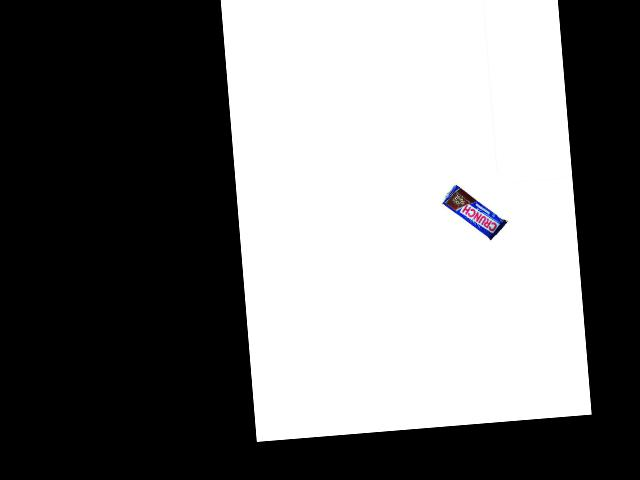chocolate: (439, 179, 510, 244)
